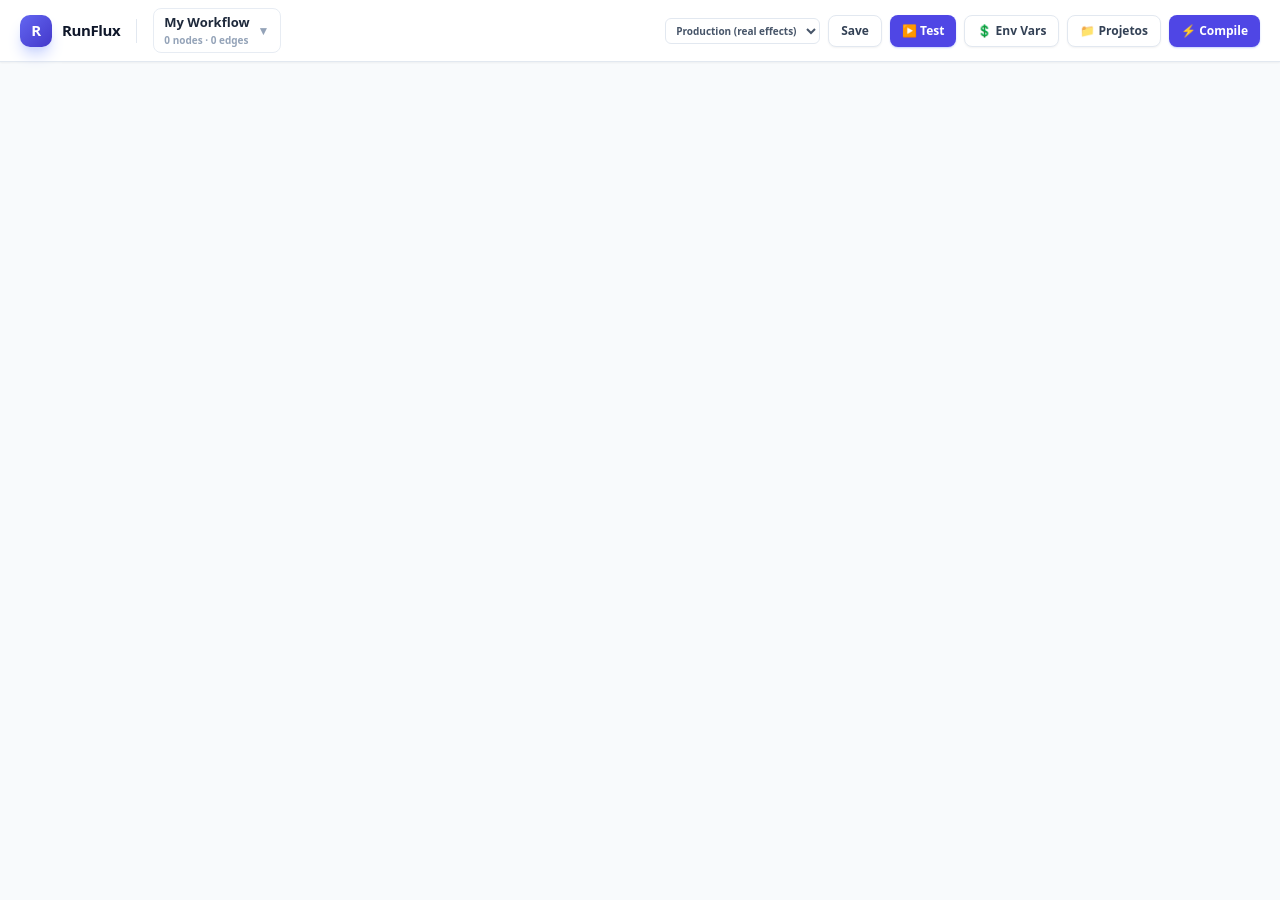
Test case: Toolbar — Compiler Button › renders the compile button in English and opens the compiler modal
Click the button with test id "open-compiler-modal-btn": click(1214, 30) [1169, 14, 1260, 46]
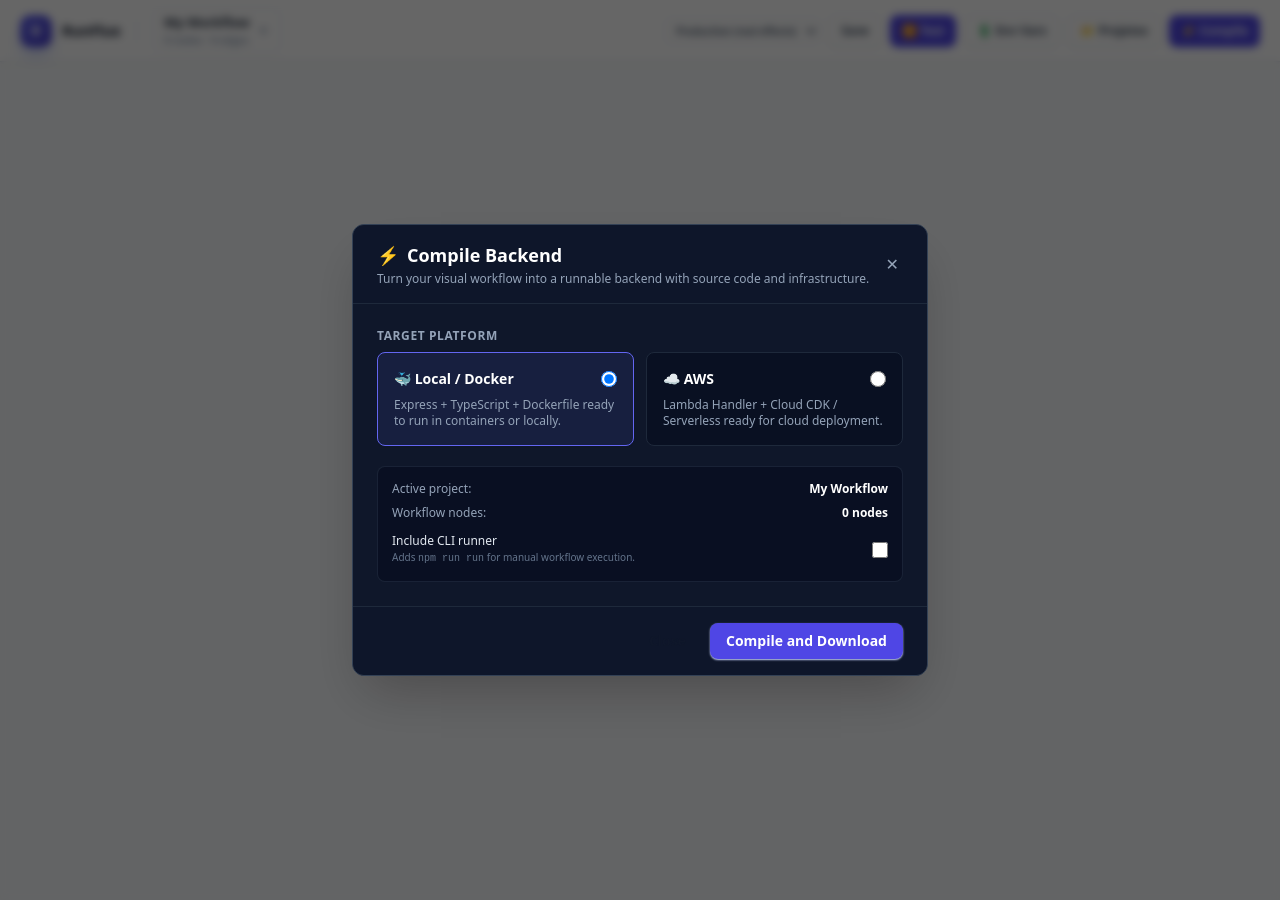
Expected: the heading "⚡ Compile Backend" is shown, [377, 243, 562, 267]
